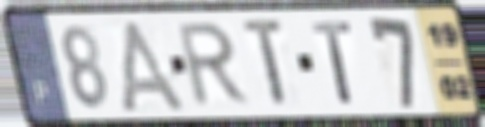7: (365, 13, 416, 110)
8: (60, 22, 111, 111)
A: (116, 16, 192, 115)
R: (175, 19, 253, 110)
T: (241, 16, 291, 112), (309, 19, 356, 107)
